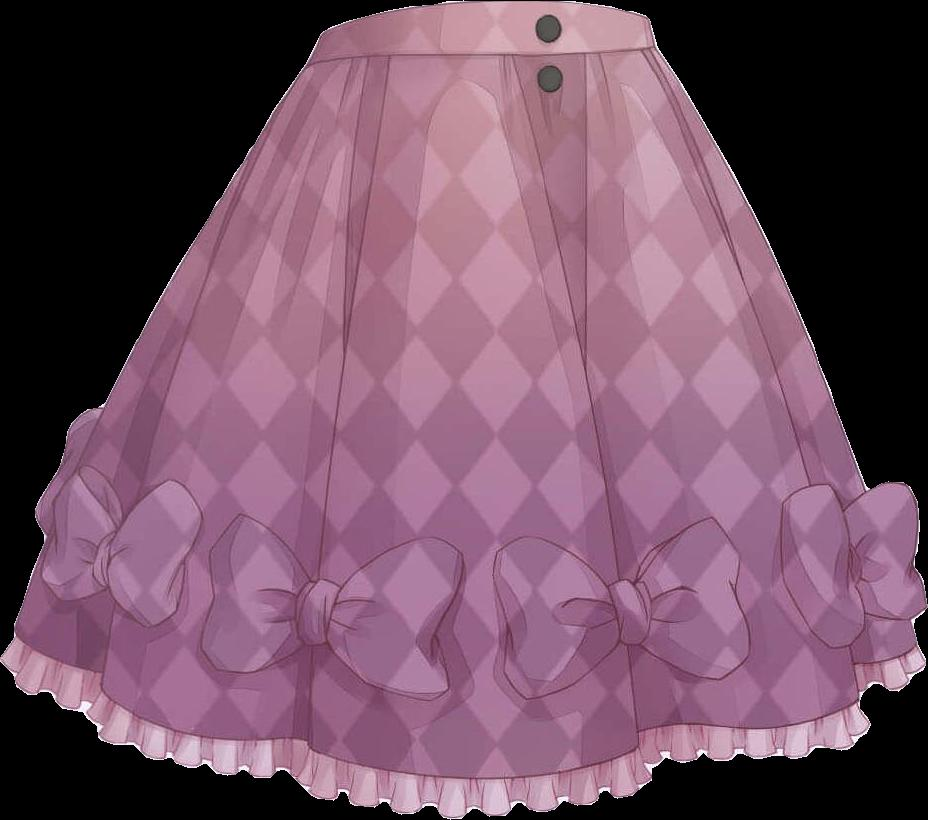Hemline: (0, 655, 927, 819)
Waistline: (8, 621, 919, 780), (321, 0, 647, 35), (303, 41, 658, 70)
